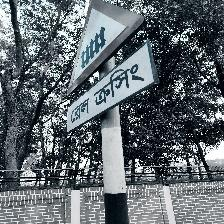Rail-crossing: (65, 1, 158, 138)
